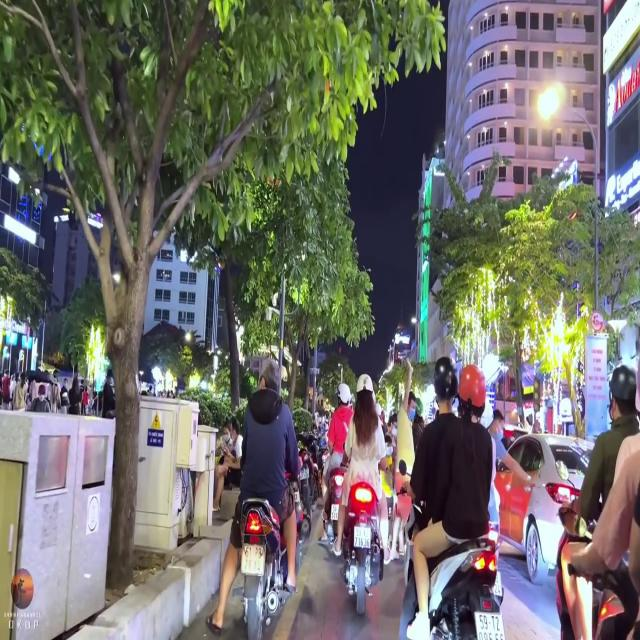bien_trang: (240, 543, 268, 576), (475, 612, 505, 640)
